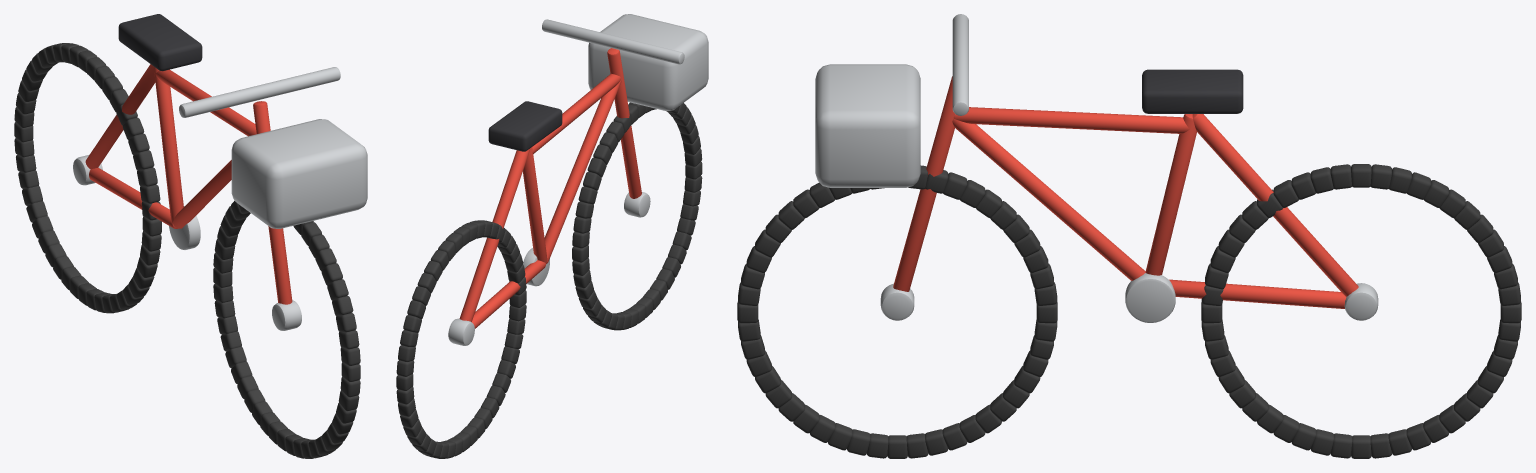
The model's file is jitensha.glb.
The picture shows the model from 3 angles, left to right: view 1: azimuth 30°, elevation 25°; view 2: azimuth 150°, elevation 25°; view 3: azimuth 270°, elevation 25°; orthographic projection. The views are drawn at different scales.
Parts seen in each view (by area): view 1: jitensha; view 2: jitensha; view 3: jitensha.
Part boxes in pixels (<box>): jitensha: <box>14,14,367,458</box>; jitensha: <box>396,14,708,458</box>; jitensha: <box>737,14,1521,458</box>.
Bounding box in the file's own units: 0.5 × 1.05 × 1.86.
